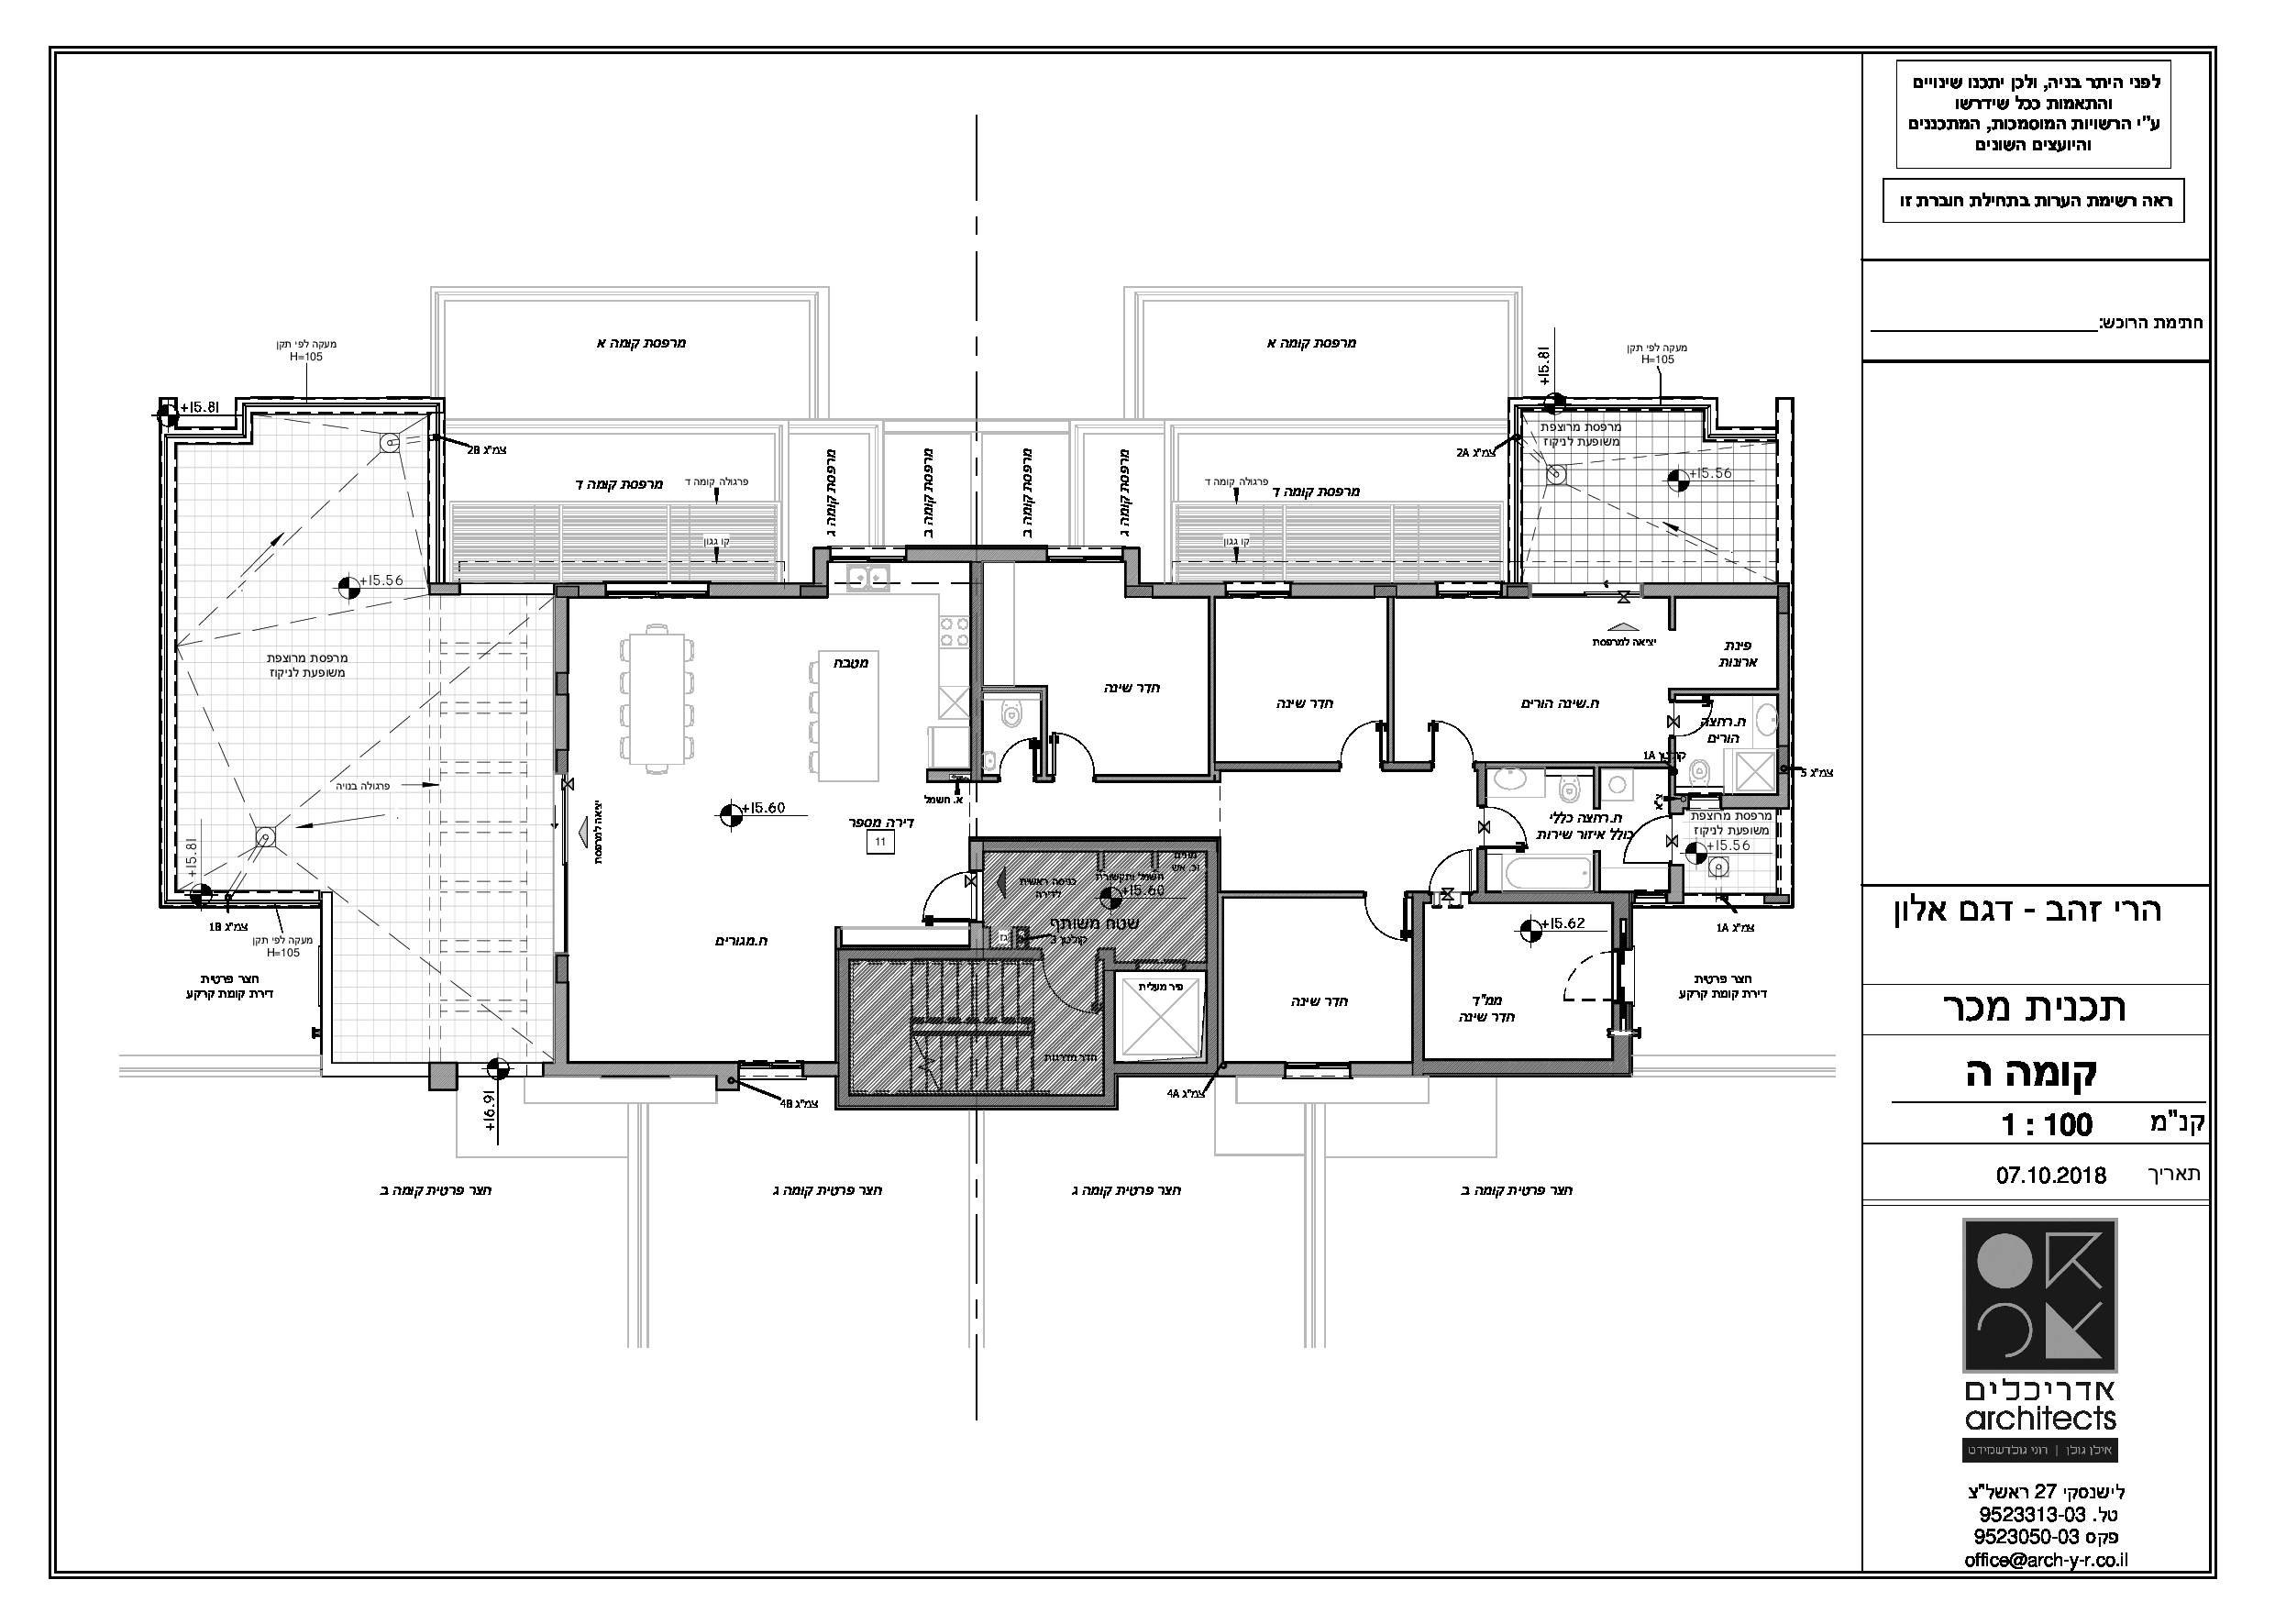door: (914, 866, 968, 926), (1354, 902, 1411, 953), (1333, 714, 1390, 763), (1421, 715, 1481, 761), (1049, 722, 1100, 775), (1551, 954, 1606, 1004), (1620, 816, 1664, 868), (1488, 801, 1532, 852), (993, 735, 1036, 775)
rd: (1831, 49, 2228, 1596)
wall: (1412, 1062, 1625, 1072), (840, 1097, 1110, 1104), (1207, 851, 1216, 1065), (1414, 900, 1423, 1072), (841, 951, 1036, 958), (545, 1067, 736, 1074), (1646, 585, 1766, 596), (840, 953, 847, 1104), (1780, 613, 1787, 743), (1476, 895, 1630, 900), (1109, 1063, 1212, 1070), (557, 990, 564, 1072), (717, 587, 785, 594), (1727, 798, 1783, 805), (1671, 872, 1681, 902)
window: (597, 576, 713, 606), (1042, 538, 1126, 568), (826, 540, 910, 566), (1281, 1058, 1354, 1084), (736, 1056, 808, 1083)
